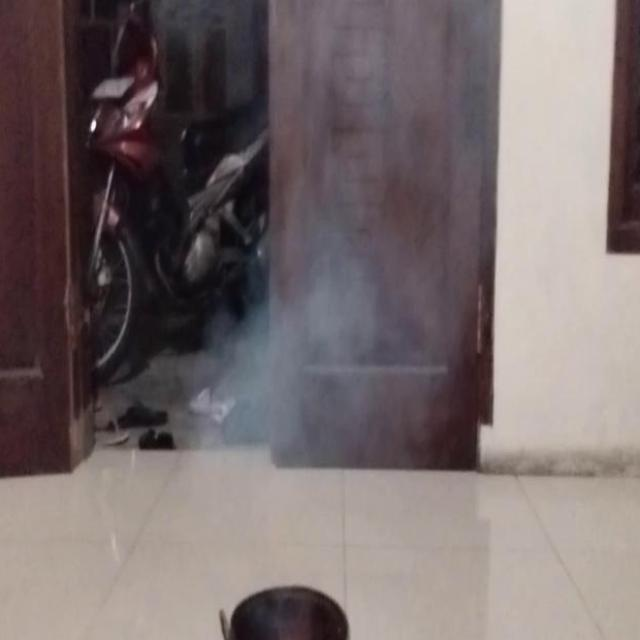fire: (192, 252, 440, 471)
